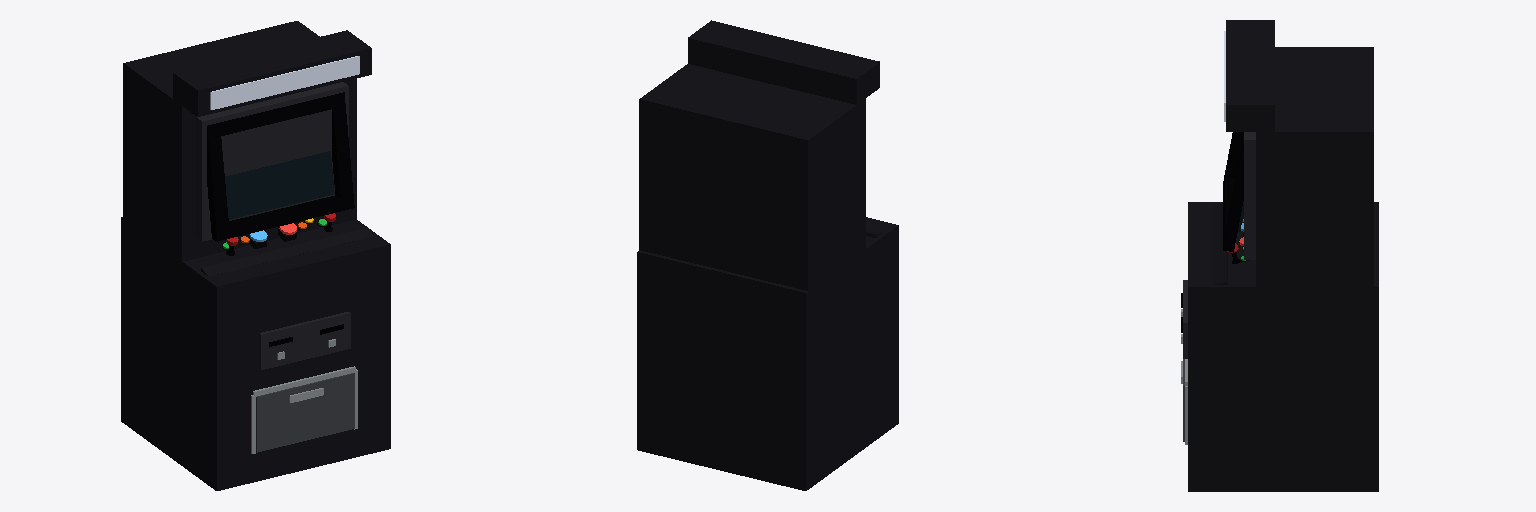
The robot description file, URDF, robot "two_player_arcade_machine":
<robot name="two_player_arcade_machine">
  <material name="cabinet_black">
    <color rgba="0.11 0.11 0.13 1" />
    </material>
  <material name="cabinet_trim">
    <color rgba="0.18 0.18 0.2 1" />
    </material>
  <material name="screen_glass">
    <color rgba="0.08 0.12 0.14 0.55" />
    </material>
  <material name="marquee_glow">
    <color rgba="0.88 0.92 0.98 0.82" />
    </material>
  <material name="slot_black">
    <color rgba="0.03 0.03 0.04 1" />
    </material>
  <material name="coin_metal">
    <color rgba="0.58 0.6 0.62 1" />
    </material>
  <material name="hatch_metal">
    <color rgba="0.28 0.29 0.31 1" />
    </material>
  <material name="sleeve_black">
    <color rgba="0.07 0.07 0.08 1" />
    </material>
  <material name="joystick_red">
    <color rgba="0.7 0.14 0.13 1" />
    </material>
  <material name="action_orange">
    <color rgba="0.91 0.39 0.12 1" />
    </material>
  <material name="action_yellow">
    <color rgba="0.96 0.72 0.12 1" />
    </material>
  <material name="action_green">
    <color rgba="0.18 0.74 0.3 1" />
    </material>
  <material name="button_blue">
    <color rgba="0.4 0.77 1 0.88" />
    </material>
  <material name="button_red">
    <color rgba="1 0.34 0.3 0.88" />
    </material>
  <link name="cabinet">
    <inertial>
      <origin xyz="0 0.03 0.91" rpy="0 0 0" />
      <mass value="88" />
      <inertia ixx="28.7525" ixy="0" ixz="0" iyy="29.2219" iyz="0" izz="9.39253" />
      </inertial>
    <visual name="lower_shell">
      <origin xyz="0 0.04 0.46" rpy="0 0 0" />
      <geometry>
        <box size="0.82 0.78 0.92" />
        </geometry>
      <material name="cabinet_black">
        <color rgba="0.11 0.11 0.13 1" />
        </material>
      </visual>
    <visual name="rear_tower">
      <origin xyz="0 0.17 1.26" rpy="0 0 0" />
      <geometry>
        <box size="0.82 0.48 0.72" />
        </geometry>
      <material name="cabinet_black">
        <color rgba="0.11 0.11 0.13 1" />
        </material>
      </visual>
    <visual name="marquee_top">
      <origin xyz="0 -0.095 1.68" rpy="0 0 0" />
      <geometry>
        <box size="0.82 0.2 0.12" />
        </geometry>
      <material name="cabinet_black">
        <color rgba="0.11 0.11 0.13 1" />
        </material>
      </visual>
    <visual name="marquee_face">
      <origin xyz="0 -0.195 1.68" rpy="0 0 0" />
      <geometry>
        <box size="0.7 0.012 0.082" />
        </geometry>
      <material name="marquee_glow">
        <color rgba="0.88 0.92 0.98 0.82" />
        </material>
      </visual>
    <visual name="control_deck">
      <origin xyz="0 -0.118 0.944" rpy="0.26 0 0" />
      <geometry>
        <mesh filename="assets/meshes/control_deck_shell.obj" />
        </geometry>
      <material name="cabinet_trim">
        <color rgba="0.18 0.18 0.2 1" />
        </material>
      </visual>
    <visual name="deck_skirt">
      <origin xyz="0 -0.205 0.875" rpy="0.26 0 0" />
      <geometry>
        <box size="0.78 0.06 0.11" />
        </geometry>
      <material name="cabinet_black">
        <color rgba="0.11 0.11 0.13 1" />
        </material>
      </visual>
    <visual name="monitor_left_bezel">
      <origin xyz="-0.293 -0.142 1.285" rpy="-0.17 0 0" />
      <geometry>
        <box size="0.06 0.045 0.49" />
        </geometry>
      <material name="slot_black">
        <color rgba="0.03 0.03 0.04 1" />
        </material>
      </visual>
    <visual name="monitor_right_bezel">
      <origin xyz="0.293 -0.142 1.285" rpy="-0.17 0 0" />
      <geometry>
        <box size="0.06 0.045 0.49" />
        </geometry>
      <material name="slot_black">
        <color rgba="0.03 0.03 0.04 1" />
        </material>
      </visual>
    <visual name="monitor_top_bezel">
      <origin xyz="0 -0.105118 1.49986" rpy="-0.17 0 0" />
      <geometry>
        <box size="0.646 0.045 0.058" />
        </geometry>
      <material name="slot_black">
        <color rgba="0.03 0.03 0.04 1" />
        </material>
      </visual>
    <visual name="monitor_bottom_bezel">
      <origin xyz="0 -0.178882 1.07014" rpy="-0.17 0 0" />
      <geometry>
        <box size="0.646 0.045 0.058" />
        </geometry>
      <material name="slot_black">
        <color rgba="0.03 0.03 0.04 1" />
        </material>
      </visual>
    <visual name="monitor_screen">
      <origin xyz="0 -0.112432 1.27992" rpy="-0.17 0 0" />
      <geometry>
        <box size="0.52 0.016 0.366" />
        </geometry>
      <material name="screen_glass">
        <color rgba="0.08 0.12 0.14 0.55" />
        </material>
      </visual>
    <visual name="monitor_backer">
      <origin xyz="0 -0.03 1.285" rpy="0 0 0" />
      <geometry>
        <box size="0.69 0.18 0.54" />
        </geometry>
      <material name="cabinet_trim">
        <color rgba="0.18 0.18 0.2 1" />
        </material>
      </visual>
    <visual name="coin_panel">
      <origin xyz="0 -0.359 0.585" rpy="0 0 0" />
      <geometry>
        <box size="0.42 0.018 0.16" />
        </geometry>
      <material name="cabinet_trim">
        <color rgba="0.18 0.18 0.2 1" />
        </material>
      </visual>
    <visual name="left_coin_slot">
      <origin xyz="-0.12 -0.372 0.614" rpy="0 0 0" />
      <geometry>
        <box size="0.112 0.008 0.018" />
        </geometry>
      <material name="slot_black">
        <color rgba="0.03 0.03 0.04 1" />
        </material>
      </visual>
    <visual name="right_coin_slot">
      <origin xyz="0.12 -0.372 0.614" rpy="0 0 0" />
      <geometry>
        <box size="0.112 0.008 0.018" />
        </geometry>
      <material name="slot_black">
        <color rgba="0.03 0.03 0.04 1" />
        </material>
      </visual>
    <visual name="left_coin_return">
      <origin xyz="-0.12 -0.371 0.552" rpy="0 0 0" />
      <geometry>
        <box size="0.03 0.01 0.03" />
        </geometry>
      <material name="coin_metal">
        <color rgba="0.58 0.6 0.62 1" />
        </material>
      </visual>
    <visual name="right_coin_return">
      <origin xyz="0.12 -0.371 0.552" rpy="0 0 0" />
      <geometry>
        <box size="0.03 0.01 0.03" />
        </geometry>
      <material name="coin_metal">
        <color rgba="0.58 0.6 0.62 1" />
        </material>
      </visual>
    <visual name="service_frame_top">
      <origin xyz="0 -0.356 0.401" rpy="0 0 0" />
      <geometry>
        <box size="0.48 0.012 0.022" />
        </geometry>
      <material name="coin_metal">
        <color rgba="0.58 0.6 0.62 1" />
        </material>
      </visual>
    <visual name="service_frame_left">
      <origin xyz="-0.24 -0.356 0.265" rpy="0 0 0" />
      <geometry>
        <box size="0.02 0.012 0.262" />
        </geometry>
      <material name="coin_metal">
        <color rgba="0.58 0.6 0.62 1" />
        </material>
      </visual>
    <visual name="service_frame_right">
      <origin xyz="0.24 -0.356 0.265" rpy="0 0 0" />
      <geometry>
        <box size="0.02 0.012 0.262" />
        </geometry>
      <material name="coin_metal">
        <color rgba="0.58 0.6 0.62 1" />
        </material>
      </visual>
    <visual name="joystick_collar_0">
      <origin xyz="-0.23 -0.151105 0.95175" rpy="0.26 0 0" />
      <geometry>
        <cylinder radius="0.018" length="0.006" />
        </geometry>
      <material name="slot_black">
        <color rgba="0.03 0.03 0.04 1" />
        </material>
      </visual>
    <visual name="action_button_guide_0_0">
      <origin xyz="-0.135 -0.104461 0.963123" rpy="0.26 0 0" />
      <geometry>
        <cylinder radius="0.02" length="0.004" />
        </geometry>
      <material name="sleeve_black">
        <color rgba="0.07 0.07 0.08 1" />
        </material>
      </visual>
    <visual name="action_button_guide_0_1">
      <origin xyz="-0.18 -0.0803014 0.96955" rpy="0.26 0 0" />
      <geometry>
        <cylinder radius="0.02" length="0.004" />
        </geometry>
      <material name="sleeve_black">
        <color rgba="0.07 0.07 0.08 1" />
        </material>
      </visual>
    <visual name="action_button_guide_0_2">
      <origin xyz="-0.225 -0.114125 0.960552" rpy="0.26 0 0" />
      <geometry>
        <cylinder radius="0.02" length="0.004" />
        </geometry>
      <material name="sleeve_black">
        <color rgba="0.07 0.07 0.08 1" />
        </material>
      </visual>
    <visual name="joystick_collar_1">
      <origin xyz="0.23 -0.151105 0.95175" rpy="0.26 0 0" />
      <geometry>
        <cylinder radius="0.018" length="0.006" />
        </geometry>
      <material name="slot_black">
        <color rgba="0.03 0.03 0.04 1" />
        </material>
      </visual>
    <visual name="action_button_guide_1_0">
      <origin xyz="0.135 -0.104461 0.963123" rpy="0.26 0 0" />
      <geometry>
        <cylinder radius="0.02" length="0.004" />
        </geometry>
      <material name="sleeve_black">
        <color rgba="0.07 0.07 0.08 1" />
        </material>
      </visual>
    <visual name="action_button_guide_1_1">
      <origin xyz="0.18 -0.0803014 0.96955" rpy="0.26 0 0" />
      <geometry>
        <cylinder radius="0.02" length="0.004" />
        </geometry>
      <material name="sleeve_black">
        <color rgba="0.07 0.07 0.08 1" />
        </material>
      </visual>
    <visual name="action_button_guide_1_2">
      <origin xyz="0.225 -0.114125 0.960552" rpy="0.26 0 0" />
      <geometry>
        <cylinder radius="0.02" length="0.004" />
        </geometry>
      <material name="sleeve_black">
        <color rgba="0.07 0.07 0.08 1" />
        </material>
      </visual>
    <visual name="left_button_sleeve">
      <origin xyz="-0.07 -0.0949399 0.942891" rpy="0.26 0 0" />
      <geometry>
        <box size="0.056 0.056 0.028" />
        </geometry>
      <material name="sleeve_black">
        <color rgba="0.07 0.07 0.08 1" />
        </material>
      </visual>
    <visual name="right_button_sleeve">
      <origin xyz="0.07 -0.0949399 0.942891" rpy="0.26 0 0" />
      <geometry>
        <box size="0.056 0.056 0.028" />
        </geometry>
      <material name="sleeve_black">
        <color rgba="0.07 0.07 0.08 1" />
        </material>
      </visual>
    </link>
  <link name="service_hatch">
    <inertial>
      <origin xyz="0 0.009 0.125" rpy="0 0 0" />
      <mass value="4.2" />
      <inertia ixx="0.0219884" ixy="0" ixz="0" iyy="0.095935" iyz="0" izz="0.0741734" />
      </inertial>
    <visual name="hatch_panel">
      <origin xyz="0 0.009 0.125" rpy="0 0 0" />
      <geometry>
        <box size="0.46 0.018 0.25" />
        </geometry>
      <material name="hatch_metal">
        <color rgba="0.28 0.29 0.31 1" />
        </material>
      </visual>
    <visual name="hatch_pull">
      <origin xyz="0 -0.004 0.205" rpy="0 0 0" />
      <geometry>
        <box size="0.16 0.008 0.032" />
        </geometry>
      <material name="coin_metal">
        <color rgba="0.58 0.6 0.62 1" />
        </material>
      </visual>
    </link>
  <link name="player_0_joystick">
    <inertial>
      <origin xyz="0 0 0.045" rpy="0 0 0" />
      <mass value="0.1" />
      <inertia ixx="8.83333e-05" ixy="0" ixz="0" iyy="8.83333e-05" iyz="0" izz="4.16667e-05" />
      </inertial>
    <visual name="joystick_shaft">
      <origin xyz="0 0 0.031" rpy="0 0 0" />
      <geometry>
        <cylinder radius="0.01" length="0.05" />
        </geometry>
      <material name="slot_black">
        <color rgba="0.03 0.03 0.04 1" />
        </material>
      </visual>
    <visual name="joystick_ball">
      <origin xyz="0 0 0.066" rpy="0 0 0" />
      <geometry>
        <cylinder radius="0.024" length="0.018" />
        </geometry>
      <material name="joystick_red">
        <color rgba="0.7 0.14 0.13 1" />
        </material>
      </visual>
    </link>
  <link name="player_1_joystick">
    <inertial>
      <origin xyz="0 0 0.045" rpy="0 0 0" />
      <mass value="0.1" />
      <inertia ixx="8.83333e-05" ixy="0" ixz="0" iyy="8.83333e-05" iyz="0" izz="4.16667e-05" />
      </inertial>
    <visual name="joystick_shaft">
      <origin xyz="0 0 0.031" rpy="0 0 0" />
      <geometry>
        <cylinder radius="0.01" length="0.05" />
        </geometry>
      <material name="slot_black">
        <color rgba="0.03 0.03 0.04 1" />
        </material>
      </visual>
    <visual name="joystick_ball">
      <origin xyz="0 0 0.066" rpy="0 0 0" />
      <geometry>
        <cylinder radius="0.024" length="0.018" />
        </geometry>
      <material name="joystick_red">
        <color rgba="0.7 0.14 0.13 1" />
        </material>
      </visual>
    </link>
  <link name="action_button_0_0">
    <inertial>
      <origin xyz="0 0 0.007" rpy="0 0 0" />
      <mass value="0.04" />
      <inertia ixx="3.57333e-06" ixy="0" ixz="0" iyy="3.57333e-06" iyz="0" izz="6.48e-06" />
      </inertial>
    <visual name="button_cap">
      <origin xyz="0 0 0.007" rpy="0 0 0" />
      <geometry>
        <cylinder radius="0.018" length="0.01" />
        </geometry>
      <material name="action_orange">
        <color rgba="0.91 0.39 0.12 1" />
        </material>
      </visual>
    </link>
  <link name="action_button_0_1">
    <inertial>
      <origin xyz="0 0 0.007" rpy="0 0 0" />
      <mass value="0.04" />
      <inertia ixx="3.57333e-06" ixy="0" ixz="0" iyy="3.57333e-06" iyz="0" izz="6.48e-06" />
      </inertial>
    <visual name="button_cap">
      <origin xyz="0 0 0.007" rpy="0 0 0" />
      <geometry>
        <cylinder radius="0.018" length="0.01" />
        </geometry>
      <material name="action_yellow">
        <color rgba="0.96 0.72 0.12 1" />
        </material>
      </visual>
    </link>
  <link name="action_button_0_2">
    <inertial>
      <origin xyz="0 0 0.007" rpy="0 0 0" />
      <mass value="0.04" />
      <inertia ixx="3.57333e-06" ixy="0" ixz="0" iyy="3.57333e-06" iyz="0" izz="6.48e-06" />
      </inertial>
    <visual name="button_cap">
      <origin xyz="0 0 0.007" rpy="0 0 0" />
      <geometry>
        <cylinder radius="0.018" length="0.01" />
        </geometry>
      <material name="action_green">
        <color rgba="0.18 0.74 0.3 1" />
        </material>
      </visual>
    </link>
  <link name="action_button_1_0">
    <inertial>
      <origin xyz="0 0 0.007" rpy="0 0 0" />
      <mass value="0.04" />
      <inertia ixx="3.57333e-06" ixy="0" ixz="0" iyy="3.57333e-06" iyz="0" izz="6.48e-06" />
      </inertial>
    <visual name="button_cap">
      <origin xyz="0 0 0.007" rpy="0 0 0" />
      <geometry>
        <cylinder radius="0.018" length="0.01" />
        </geometry>
      <material name="action_orange">
        <color rgba="0.91 0.39 0.12 1" />
        </material>
      </visual>
    </link>
  <link name="action_button_1_1">
    <inertial>
      <origin xyz="0 0 0.007" rpy="0 0 0" />
      <mass value="0.04" />
      <inertia ixx="3.57333e-06" ixy="0" ixz="0" iyy="3.57333e-06" iyz="0" izz="6.48e-06" />
      </inertial>
    <visual name="button_cap">
      <origin xyz="0 0 0.007" rpy="0 0 0" />
      <geometry>
        <cylinder radius="0.018" length="0.01" />
        </geometry>
      <material name="action_yellow">
        <color rgba="0.96 0.72 0.12 1" />
        </material>
      </visual>
    </link>
  <link name="action_button_1_2">
    <inertial>
      <origin xyz="0 0 0.007" rpy="0 0 0" />
      <mass value="0.04" />
      <inertia ixx="3.57333e-06" ixy="0" ixz="0" iyy="3.57333e-06" iyz="0" izz="6.48e-06" />
      </inertial>
    <visual name="button_cap">
      <origin xyz="0 0 0.007" rpy="0 0 0" />
      <geometry>
        <cylinder radius="0.018" length="0.01" />
        </geometry>
      <material name="action_green">
        <color rgba="0.18 0.74 0.3 1" />
        </material>
      </visual>
    </link>
  <link name="left_start_button">
    <inertial>
      <origin xyz="0 0 0.002" rpy="0 0 0" />
      <mass value="0.1" />
      <inertia ixx="4.20333e-05" ixy="0" ixz="0" iyy="4.20333e-05" iyz="0" izz="6.48e-05" />
      </inertial>
    <visual name="button_plunger">
      <origin xyz="0 0 -0.005" rpy="0 0 0" />
      <geometry>
        <cylinder radius="0.019" length="0.03" />
        </geometry>
      <material name="slot_black">
        <color rgba="0.03 0.03 0.04 1" />
        </material>
      </visual>
    <visual name="button_cap">
      <origin xyz="0 0 0.01" rpy="0 0 0" />
      <geometry>
        <cylinder radius="0.036" length="0.012" />
        </geometry>
      <material name="button_blue">
        <color rgba="0.4 0.77 1 0.88" />
        </material>
      </visual>
    </link>
  <link name="right_start_button">
    <inertial>
      <origin xyz="0 0 0.002" rpy="0 0 0" />
      <mass value="0.1" />
      <inertia ixx="4.20333e-05" ixy="0" ixz="0" iyy="4.20333e-05" iyz="0" izz="6.48e-05" />
      </inertial>
    <visual name="button_plunger">
      <origin xyz="0 0 -0.005" rpy="0 0 0" />
      <geometry>
        <cylinder radius="0.019" length="0.03" />
        </geometry>
      <material name="slot_black">
        <color rgba="0.03 0.03 0.04 1" />
        </material>
      </visual>
    <visual name="button_cap">
      <origin xyz="0 0 0.01" rpy="0 0 0" />
      <geometry>
        <cylinder radius="0.036" length="0.012" />
        </geometry>
      <material name="button_red">
        <color rgba="1 0.34 0.3 0.88" />
        </material>
      </visual>
    </link>
  <joint name="cabinet_to_player_0_joystick" type="revolute">
    <origin xyz="-0.23 -0.150334 0.948851" rpy="0.26 0 0" />
    <parent link="cabinet" />
    <child link="player_0_joystick" />
    <axis xyz="1 0 0" />
    <limit effort="0.8" velocity="2.5" lower="-0.35" upper="0.35" />
    </joint>
  <joint name="cabinet_to_player_1_joystick" type="revolute">
    <origin xyz="0.23 -0.150334 0.948851" rpy="0.26 0 0" />
    <parent link="cabinet" />
    <child link="player_1_joystick" />
    <axis xyz="1 0 0" />
    <limit effort="0.8" velocity="2.5" lower="-0.35" upper="0.35" />
    </joint>
  <joint name="cabinet_to_action_button_0_0" type="prismatic">
    <origin xyz="-0.135 -0.103947 0.961191" rpy="0.26 0 0" />
    <parent link="cabinet" />
    <child link="action_button_0_0" />
    <axis xyz="0 0 -1" />
    <limit effort="0.8" velocity="0.12" lower="0" upper="0.003" />
    </joint>
  <joint name="cabinet_to_action_button_0_1" type="prismatic">
    <origin xyz="-0.18 -0.0797873 0.967618" rpy="0.26 0 0" />
    <parent link="cabinet" />
    <child link="action_button_0_1" />
    <axis xyz="0 0 -1" />
    <limit effort="0.8" velocity="0.12" lower="0" upper="0.003" />
    </joint>
  <joint name="cabinet_to_action_button_0_2" type="prismatic">
    <origin xyz="-0.225 -0.113611 0.95862" rpy="0.26 0 0" />
    <parent link="cabinet" />
    <child link="action_button_0_2" />
    <axis xyz="0 0 -1" />
    <limit effort="0.8" velocity="0.12" lower="0" upper="0.003" />
    </joint>
  <joint name="cabinet_to_action_button_1_0" type="prismatic">
    <origin xyz="0.135 -0.103947 0.961191" rpy="0.26 0 0" />
    <parent link="cabinet" />
    <child link="action_button_1_0" />
    <axis xyz="0 0 -1" />
    <limit effort="0.8" velocity="0.12" lower="0" upper="0.003" />
    </joint>
  <joint name="cabinet_to_action_button_1_1" type="prismatic">
    <origin xyz="0.18 -0.0797873 0.967618" rpy="0.26 0 0" />
    <parent link="cabinet" />
    <child link="action_button_1_1" />
    <axis xyz="0 0 -1" />
    <limit effort="0.8" velocity="0.12" lower="0" upper="0.003" />
    </joint>
  <joint name="cabinet_to_action_button_1_2" type="prismatic">
    <origin xyz="0.225 -0.113611 0.95862" rpy="0.26 0 0" />
    <parent link="cabinet" />
    <child link="action_button_1_2" />
    <axis xyz="0 0 -1" />
    <limit effort="0.8" velocity="0.12" lower="0" upper="0.003" />
    </joint>
  <joint name="cabinet_to_service_hatch" type="revolute">
    <origin xyz="0 -0.368 0.14" rpy="0 0 0" />
    <parent link="cabinet" />
    <child link="service_hatch" />
    <axis xyz="1 0 0" />
    <limit effort="18" velocity="1.2" lower="0" upper="1.28" />
    </joint>
  <joint name="cabinet_to_left_start_button" type="prismatic">
    <origin xyz="-0.07 -0.100081 0.962219" rpy="0.26 0 0" />
    <parent link="cabinet" />
    <child link="left_start_button" />
    <axis xyz="0 0 -1" />
    <limit effort="6" velocity="0.08" lower="0" upper="0.004" />
    </joint>
  <joint name="cabinet_to_right_start_button" type="prismatic">
    <origin xyz="0.07 -0.100081 0.962219" rpy="0.26 0 0" />
    <parent link="cabinet" />
    <child link="right_start_button" />
    <axis xyz="0 0 -1" />
    <limit effort="6" velocity="0.08" lower="0" upper="0.004" />
    </joint>
  </robot>

--- Render facts (derived) ---
3 views of the same robot in one strip: view 1: azimuth 30°, elevation 25°; view 2: azimuth 150°, elevation 25°; view 3: azimuth 270°, elevation 25° (orthographic).
Robot: two_player_arcade_machine — 12 links, 11 joints (3 revolute, 8 prismatic); root link cabinet; default pose: all joints at 0.
Links seen in each view (by area): view 1: cabinet, service_hatch; view 2: cabinet; view 3: cabinet.
Boxes of the visible links, x1,y1,x2,y2 form: cabinet: [121, 21, 390, 490]; service_hatch: [256, 373, 354, 452]; cabinet: [637, 20, 898, 490]; cabinet: [1181, 20, 1378, 491].
Size in the robot's own frame: 0.82 by 0.806 by 1.74 metres.
0 mesh visuals loaded from 1 distinct referenced files (none loaded); not drawn: 1 (reference not matched to a file when rendering).
